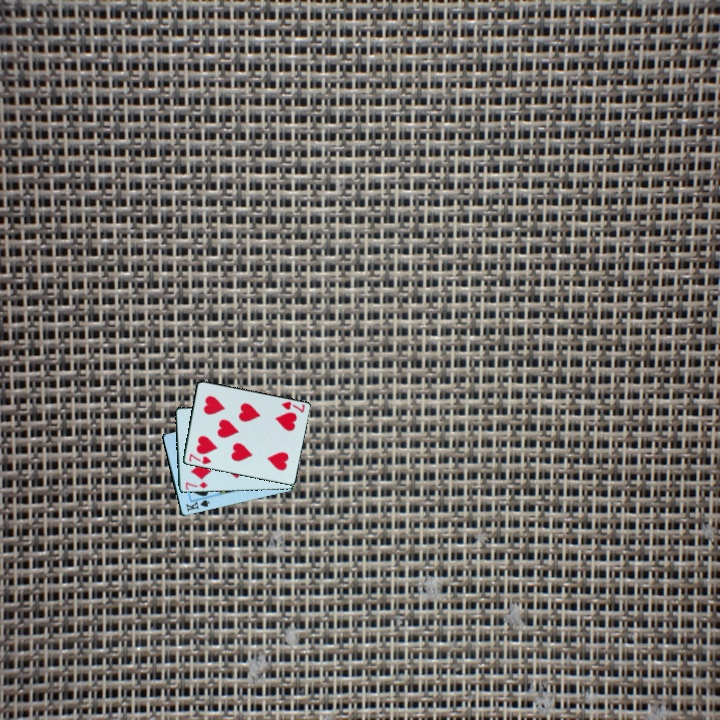7d: (182, 479, 210, 492)
7h: (185, 450, 214, 467), (278, 398, 307, 415)
Ks: (182, 497, 212, 514)
